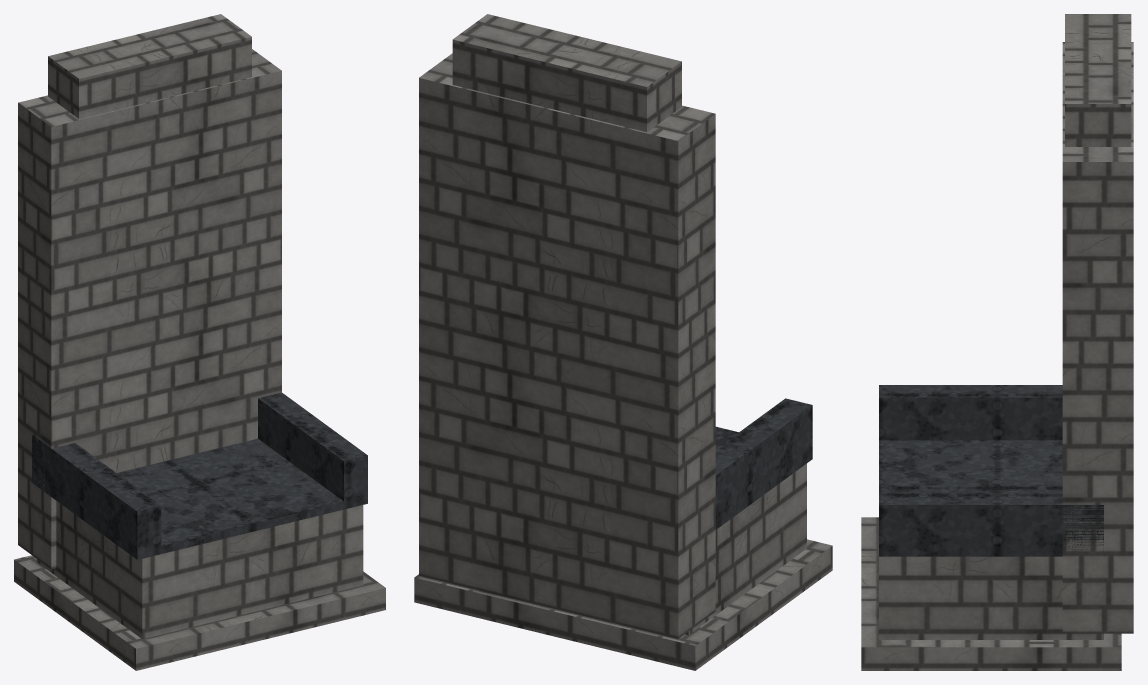
The model's file is throne.glb.
3 views of the same model, side by side, from view 1: azimuth 30°, elevation 25°; view 2: azimuth 150°, elevation 25°; view 3: azimuth 270°, elevation 25° (orthographic). The views are drawn at different scales.
Visible parts, largest first — view 1: throne; view 2: throne; view 3: throne.
Part boxes in pixels (box(x1,y1,x2,y2)): throne: box(14, 14, 385, 670); throne: box(414, 14, 832, 670); throne: box(861, 14, 1133, 670).
Bounding box in the file's own units: 2.6 × 5.1 × 2.3.
Materials: 2 (2 with a texture image).
